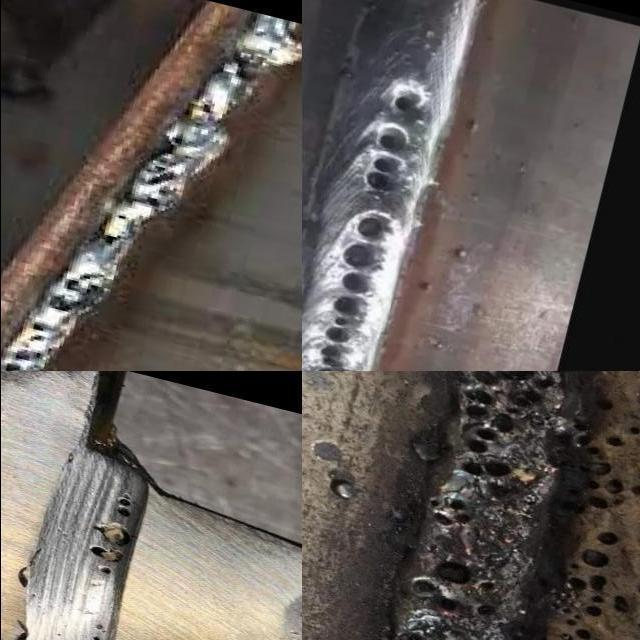defect: (306, 212, 387, 371), (450, 371, 561, 484), (554, 392, 640, 518), (550, 526, 640, 640), (401, 550, 507, 625), (359, 119, 413, 195), (136, 152, 189, 212), (85, 519, 133, 579), (45, 269, 107, 315), (416, 483, 472, 531), (0, 319, 49, 371), (225, 45, 255, 82), (109, 492, 137, 518), (165, 125, 194, 149), (395, 91, 422, 114), (99, 229, 128, 247), (197, 100, 217, 117), (89, 633, 106, 640), (115, 213, 128, 221), (95, 623, 103, 631)
